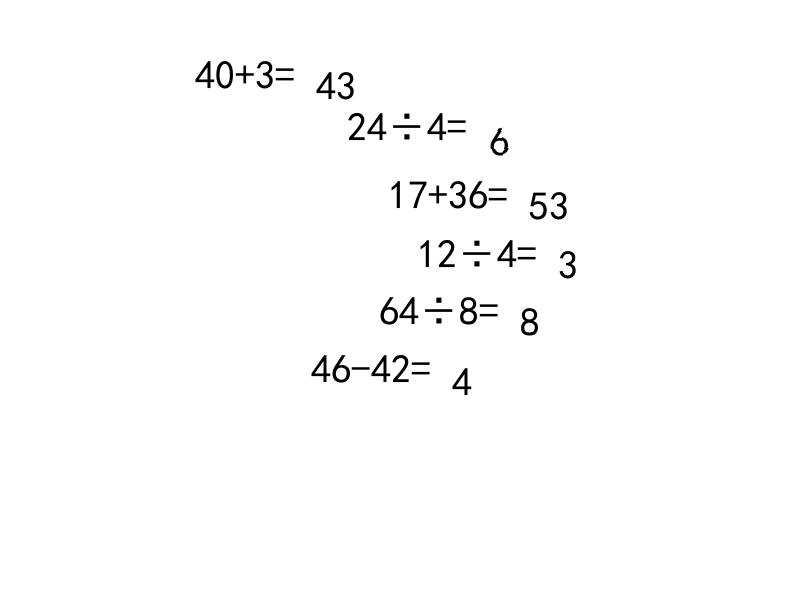+: (235, 54, 255, 84), (428, 174, 448, 203)
-: (351, 348, 371, 377)
0: (215, 54, 235, 84)
1: (388, 174, 408, 203), (417, 233, 437, 262)
2: (347, 106, 367, 135), (437, 233, 457, 262), (391, 348, 411, 377)
3: (255, 54, 275, 84), (325, 54, 345, 84), (448, 174, 468, 203), (538, 174, 558, 203), (547, 233, 567, 262)
4: (195, 54, 215, 84), (305, 54, 325, 84), (367, 106, 387, 135), (427, 106, 447, 135), (497, 233, 517, 262), (311, 348, 331, 377), (371, 348, 391, 377), (441, 348, 461, 377), (399, 290, 419, 318)
5: (518, 174, 538, 203)
6: (477, 106, 497, 135), (468, 174, 488, 203), (331, 348, 351, 377), (379, 290, 399, 318)
7: (408, 174, 428, 203)
8: (459, 290, 479, 318), (509, 290, 529, 318)
=: (275, 54, 295, 84), (447, 106, 467, 135), (488, 174, 508, 203), (517, 233, 537, 262), (411, 348, 431, 377), (479, 290, 499, 318)
÷: (387, 106, 427, 135), (457, 233, 497, 262), (419, 290, 459, 318)
